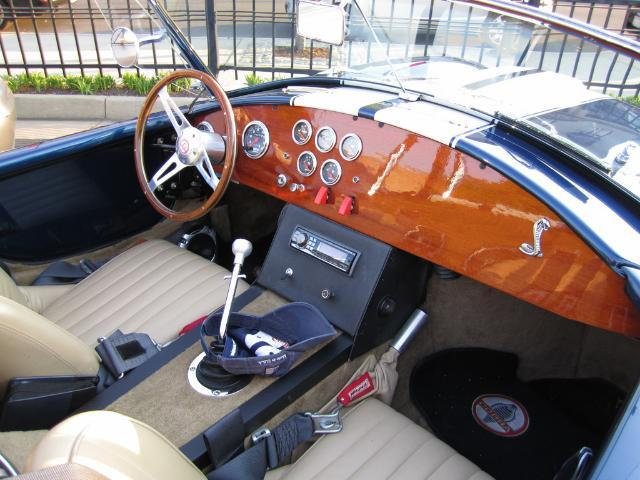Seatbelt: (203, 412, 341, 480), (28, 254, 106, 286)
